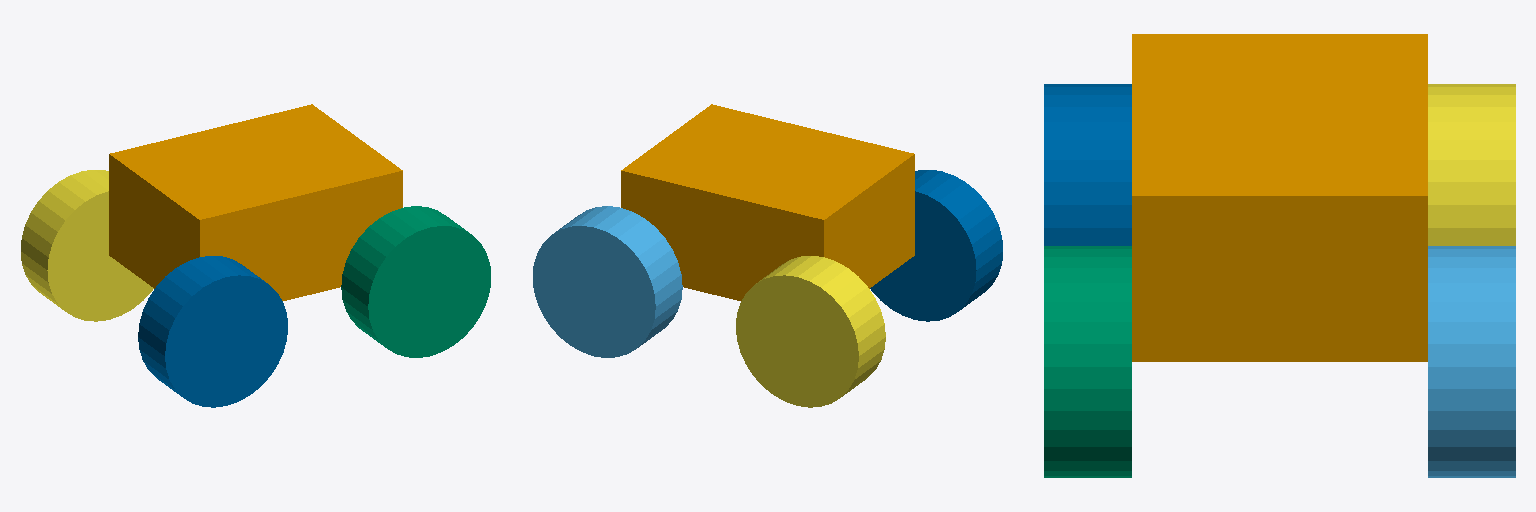
The robot description file, URDF, robot "fw_robot":
<?xml version="1.0" ?>
<!-- =================================================================================== -->
<!-- |    This document was autogenerated by xacro from fwb_gazebo_t3.xacro            | -->
<!-- |    EDITING THIS FILE BY HAND IS NOT RECOMMENDED                                 | -->
<!-- =================================================================================== -->
<!-- A four wheel robot -->
<!-- 
    A four wheel mobile robot made for Tutorial 3 (for being spawned in gazebo)
-->
<robot name="fw_robot">
  <!-- Wheel height (m) -->
  <!-- Wheel height (m) -->
  <!-- 
        Main Gazebo tag

        Tag reference: http://gazebosim.org/tutorials?tut=ros_urdf&cat=connect_ros#%3Cgazebo%3Eelementforthetag
    -->
  <gazebo>
    <static>false</static>
    <!-- Plugin for Skid Steer Drive -->
    <!-- 
                Skid Steer Drive is a four wheel drive (NOT an ackreman steering drive)
                - The <plugin> is used to load various values into the node (gazebo) for this purpose.
                - Each plugin creates a unique ros::NodeHandle
                - Check the `Load` function in the C++ source file for the code that is executed for the parsed tags
                - It interacts directly with the physics engine in gazebo

                Reference: http://gazebosim.org/tutorials?tut=ros_gzplugins&cat=connect_ros#SkidSteeringDrive
                Source code (.so): https://github.com/ros-simulation/gazebo_ros_pkgs/blob/kinetic-devel/gazebo_plugins/src/gazebo_ros_skid_steer_drive.cpp
                Header file: https://github.com/ros-simulation/gazebo_ros_pkgs/blob/kinetic-devel/gazebo_plugins/include/gazebo_plugins/gazebo_ros_skid_steer_drive.h
                Path (.so on local system): /opt/ros/noetic/lib/libgazebo_ros_skid_steer_drive.so
            -->
    <plugin filename="libgazebo_ros_skid_steer_drive.so" name="ss_drive_plugin">
      <!-- Update rate for controls (default 100 Hz) -->
      <updateRate>100.0</updateRate>
      <!-- Namespace for the ros::NodeHandle (a 'prefix' for all topics and other ROS end things for this plugin) -->
      <!-- This can be used to distinguish the topics and services spcifically for this plugin -->
      <robotNamespace>/</robotNamespace>
      <!-- Default "/" -->
      <!-- Front left wheel joint name for the physics::JointPtr (default "left_front_joint") -->
      <leftFrontJoint>fl_wheel_joint</leftFrontJoint>
      <!-- Front right wheel joint name for the physics::JointPtr (default "right_front_joint") -->
      <rightFrontJoint>fr_wheel_joint</rightFrontJoint>
      <!-- Hind left wheel joint name for the physics::JointPtr (default "left_rear_joint") -->
      <leftRearJoint>hl_wheel_joint</leftRearJoint>
      <!-- Hind right wheel joint name for the physics::JointPtr (default "right_rear_joint") -->
      <rightRearJoint>hr_wheel_joint</rightRearJoint>
      <!-- Wheel separation (b/w left and right wheels, must be identical for front and hind) (default 0.4 m) -->
      <wheelSeparation>0.5449999999999999</wheelSeparation>
      <!-- Wheel diameter (each wheel has the same diameter) (default 0.15 m) -->
      <wheelDiameter>0.33</wheelDiameter>
      <!-- Base frame name (link name) for publishing odometry (default "base_footprint") -->
      <robotBaseFrame>body</robotBaseFrame>
      <!-- Maximum torque of the wheels (default 5.0 Nm) -->
      <torque>20</torque>
      <!-- Topic name for commanding geometry_msgs/Twist (default "cmd_vel", distinct in robotNamespace) -->
      <commandTopic>cmd_vel</commandTopic>
      <!-- Broadcast the transformation for odometry (from odom frame to base frame) (default false) -->
      <!--
                    Some tags for odometry (position of robot in world) that you can use
                    - <odometryTopic> : Topic name for odometry (message type nav_msgs/Odometry) (default "odom" in robot namespace)
                    - <odometryFrame> : Frame name for odometry in the transformation tree (default "/odom")
                    - <covariance_x> : Covariance for odometry (along X axis translation) (default 0.0001 m)
                    - <covariance_y> : Covariance for odometry (along Y axis translation) (default 0.0001 m)
                    - <covariance_yaw> : Covariance for odometry (along Z axis rotation) (default 0.01 rad)
                -->
      <broadcastTF>true</broadcastTF>
    </plugin>
  </gazebo>
  <!-- 
        Gazebo tags for individual <link> elements in the XACRO / URDF (using reference)
        
        Reference: http://gazebosim.org/tutorials?tut=ros_urdf&cat=connect_ros#Links
        Tags for links: http://gazebosim.org/tutorials?tut=ros_urdf&cat=connect_ros#%3Cgazebo%3EElementsForLinks
    -->
  <!-- Main body -->
  <gazebo reference="body">
    <!-- Material tag for rendering material -->
    <!-- Default list: https://github.com/osrf/gazebo/blob/master/media/materials/scripts/gazebo.material -->
    <material>Gazebo/Orange</material>
  </gazebo>
  <!-- Front left wheel -->
  <gazebo reference="fl_wheel">
    <mu1>0.1</mu1>
    <mu2>0.1</mu2>
    <material>Gazebo/Black</material>
  </gazebo>
  <!-- Front right wheel -->
  <gazebo reference="fr_wheel">
    <mu1>0.1</mu1>
    <mu2>0.1</mu2>
    <material>Gazebo/Black</material>
  </gazebo>
  <!-- Hind left wheel -->
  <gazebo reference="hl_wheel">
    <mu1>0.1</mu1>
    <mu2>0.1</mu2>
    <material>Gazebo/Black</material>
  </gazebo>
  <!-- Hind right wheel -->
  <gazebo reference="hr_wheel">
    <mu1>0.1</mu1>
    <mu2>0.1</mu2>
    <material>Gazebo/Black</material>
  </gazebo>
  <!-- 
        Gazebo tags for individual <joint> elements in the XACRO / URDF (using reference)
        
        Reference: http://gazebosim.org/tutorials?tut=ros_urdf&cat=connect_ros#Joints
    -->
  <!-- Front left wheel joint -->
  <gazebo reference="fl_wheel_joint">
    <provideFeedback>true</provideFeedback>
  </gazebo>
  <!-- Front right wheel joint -->
  <gazebo reference="fr_wheel_joint">
    <provideFeedback>true</provideFeedback>
  </gazebo>
  <!-- Hind left wheel joint -->
  <gazebo reference="hl_wheel_joint">
    <provideFeedback>true</provideFeedback>
  </gazebo>
  <!-- Hind right wheel joint -->
  <gazebo reference="hr_wheel_joint">
    <provideFeedback>true</provideFeedback>
  </gazebo>
  <!-- Main code -->
  <!-- Main body link -->
  <link name="body">
    <inertial>
      <origin rpy="0.0 0.0 0.0" xyz="0.0 0.0 0.0"/>
      <mass value="20"/>
      <inertia ixx="0.4066666666666666" ixy="0.0" ixz="0.0" iyy="0.6058933333333333" iyz="0.0" izz="0.7872266666666665"/>
    </inertial>
    <visual>
      <origin rpy="0.0 0.0 0.0" xyz="0.0 0.0 0.0"/>
      <geometry>
        <box size="0.544 0.42 0.26"/>
      </geometry>
    </visual>
    <collition>
      <origin rpy="0.0 0.0 0.0" xyz="0.0 0.0 0.0"/>
      <geometry>
        <box size="0.544 0.42 0.26"/>
      </geometry>
    </collition>
  </link>
  <!-- Link -->
  <link name="fl_wheel">
    <inertial>
      <origin rpy="0.0 0.0 0.0" xyz="0.0 0.0 0.0"/>
      <mass value="1"/>
      <inertia ixx="0.008108333333333334" ixy="0.0" ixz="0.0" iyy="0.008108333333333334" iyz="0.0" izz="0.013612500000000001"/>
    </inertial>
    <visual>
      <origin rpy="0.0 0.0 0.0" xyz="0.0 0.0 0.0"/>
      <geometry>
        <cylinder length="0.125" radius="0.165"/>
      </geometry>
    </visual>
    <collision>
      <origin rpy="0.0 0.0 0.0" xyz="0.0 0.0 0.0"/>
      <geometry>
        <cylinder length="0.125" radius="0.165"/>
      </geometry>
    </collision>
  </link>
  <!-- Joint from wheel to body -->
  <joint name="fl_wheel_joint" type="continuous">
    <origin rpy="-1.5707963267948966 0.0 0.0" xyz="0.272 0.27249999999999996 -0.13"/>
    <parent link="body"/>
    <child link="fl_wheel"/>
    <axis xyz="0.0 0.0 1.0"/>
  </joint>
  <!-- Link -->
  <link name="fr_wheel">
    <inertial>
      <origin rpy="0.0 0.0 0.0" xyz="0.0 0.0 0.0"/>
      <mass value="1"/>
      <inertia ixx="0.008108333333333334" ixy="0.0" ixz="0.0" iyy="0.008108333333333334" iyz="0.0" izz="0.013612500000000001"/>
    </inertial>
    <visual>
      <origin rpy="0.0 0.0 0.0" xyz="0.0 0.0 0.0"/>
      <geometry>
        <cylinder length="0.125" radius="0.165"/>
      </geometry>
    </visual>
    <collision>
      <origin rpy="0.0 0.0 0.0" xyz="0.0 0.0 0.0"/>
      <geometry>
        <cylinder length="0.125" radius="0.165"/>
      </geometry>
    </collision>
  </link>
  <!-- Joint from wheel to body -->
  <joint name="fr_wheel_joint" type="continuous">
    <origin rpy="-1.5707963267948966 0.0 0.0" xyz="0.272 -0.27249999999999996 -0.13"/>
    <parent link="body"/>
    <child link="fr_wheel"/>
    <axis xyz="0.0 0.0 1.0"/>
  </joint>
  <!-- Link -->
  <link name="hl_wheel">
    <inertial>
      <origin rpy="0.0 0.0 0.0" xyz="0.0 0.0 0.0"/>
      <mass value="1"/>
      <inertia ixx="0.008108333333333334" ixy="0.0" ixz="0.0" iyy="0.008108333333333334" iyz="0.0" izz="0.013612500000000001"/>
    </inertial>
    <visual>
      <origin rpy="0.0 0.0 0.0" xyz="0.0 0.0 0.0"/>
      <geometry>
        <cylinder length="0.125" radius="0.165"/>
      </geometry>
    </visual>
    <collision>
      <origin rpy="0.0 0.0 0.0" xyz="0.0 0.0 0.0"/>
      <geometry>
        <cylinder length="0.125" radius="0.165"/>
      </geometry>
    </collision>
  </link>
  <!-- Joint from wheel to body -->
  <joint name="hl_wheel_joint" type="continuous">
    <origin rpy="-1.5707963267948966 0.0 0.0" xyz="-0.272 0.27249999999999996 -0.13"/>
    <parent link="body"/>
    <child link="hl_wheel"/>
    <axis xyz="0.0 0.0 1.0"/>
  </joint>
  <!-- Link -->
  <link name="hr_wheel">
    <inertial>
      <origin rpy="0.0 0.0 0.0" xyz="0.0 0.0 0.0"/>
      <mass value="1"/>
      <inertia ixx="0.008108333333333334" ixy="0.0" ixz="0.0" iyy="0.008108333333333334" iyz="0.0" izz="0.013612500000000001"/>
    </inertial>
    <visual>
      <origin rpy="0.0 0.0 0.0" xyz="0.0 0.0 0.0"/>
      <geometry>
        <cylinder length="0.125" radius="0.165"/>
      </geometry>
    </visual>
    <collision>
      <origin rpy="0.0 0.0 0.0" xyz="0.0 0.0 0.0"/>
      <geometry>
        <cylinder length="0.125" radius="0.165"/>
      </geometry>
    </collision>
  </link>
  <!-- Joint from wheel to body -->
  <joint name="hr_wheel_joint" type="continuous">
    <origin rpy="-1.5707963267948966 0.0 0.0" xyz="-0.272 -0.27249999999999996 -0.13"/>
    <parent link="body"/>
    <child link="hr_wheel"/>
    <axis xyz="0.0 0.0 1.0"/>
  </joint>
  <!-- Hind Right -->
</robot>

--- What the picture shows (computed from the rendered views, not written in the file) ---
The picture shows the robot from 3 angles, left to right: view 1: azimuth 30°, elevation 25°; view 2: azimuth 150°, elevation 25°; view 3: azimuth 270°, elevation 25°; orthographic projection.
Model fw_robot with 5 links and 4 joints (4 continuous), rooted at body, posed all joints at 0.
Links seen in each view (by area): view 1: body, fr_wheel, hr_wheel, hl_wheel; view 2: body, fl_wheel, hl_wheel, hr_wheel; view 3: body, fl_wheel, fr_wheel, hl_wheel, hr_wheel.
Boxes of the visible links, x1,y1,x2,y2 form: body: (109,104,402,300); fr_wheel: (341,206,490,357); hr_wheel: (138,256,287,407); hl_wheel: (21,170,153,321); body: (621,104,914,300); fl_wheel: (533,206,682,357); hl_wheel: (736,256,885,407); hr_wheel: (870,170,1002,321); body: (1132,34,1427,361); fl_wheel: (1428,246,1515,477); fr_wheel: (1044,246,1131,477); hl_wheel: (1428,84,1515,245); hr_wheel: (1044,84,1131,245).
Bounding box of the posed robot: 0.874 × 0.67 × 0.425 m (x, y, z).
Geometry: primitives only (box / cylinder / sphere), no mesh files.